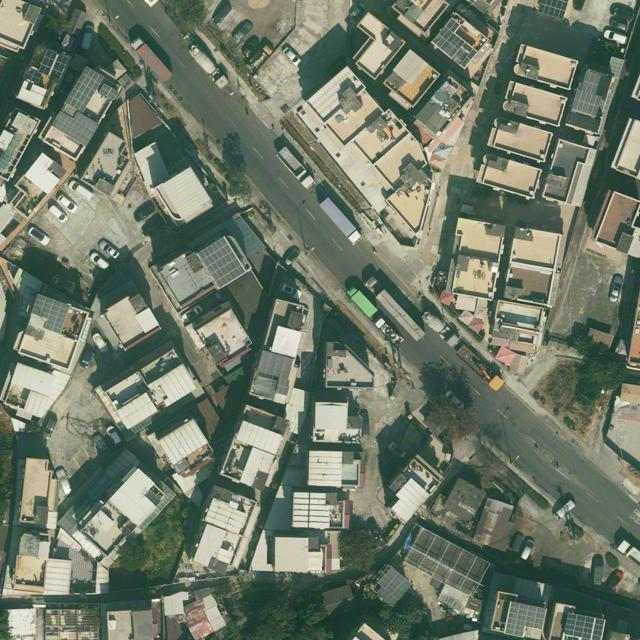SolarPanel: (197, 238, 246, 289), (431, 18, 478, 69), (65, 66, 105, 113), (52, 111, 100, 146), (32, 294, 70, 334), (504, 601, 546, 637), (377, 566, 413, 607), (257, 350, 294, 379), (564, 613, 605, 639), (38, 49, 69, 80), (571, 91, 603, 117), (537, 0, 569, 20), (580, 69, 602, 95), (98, 83, 120, 100), (23, 68, 43, 85), (276, 379, 290, 395)
